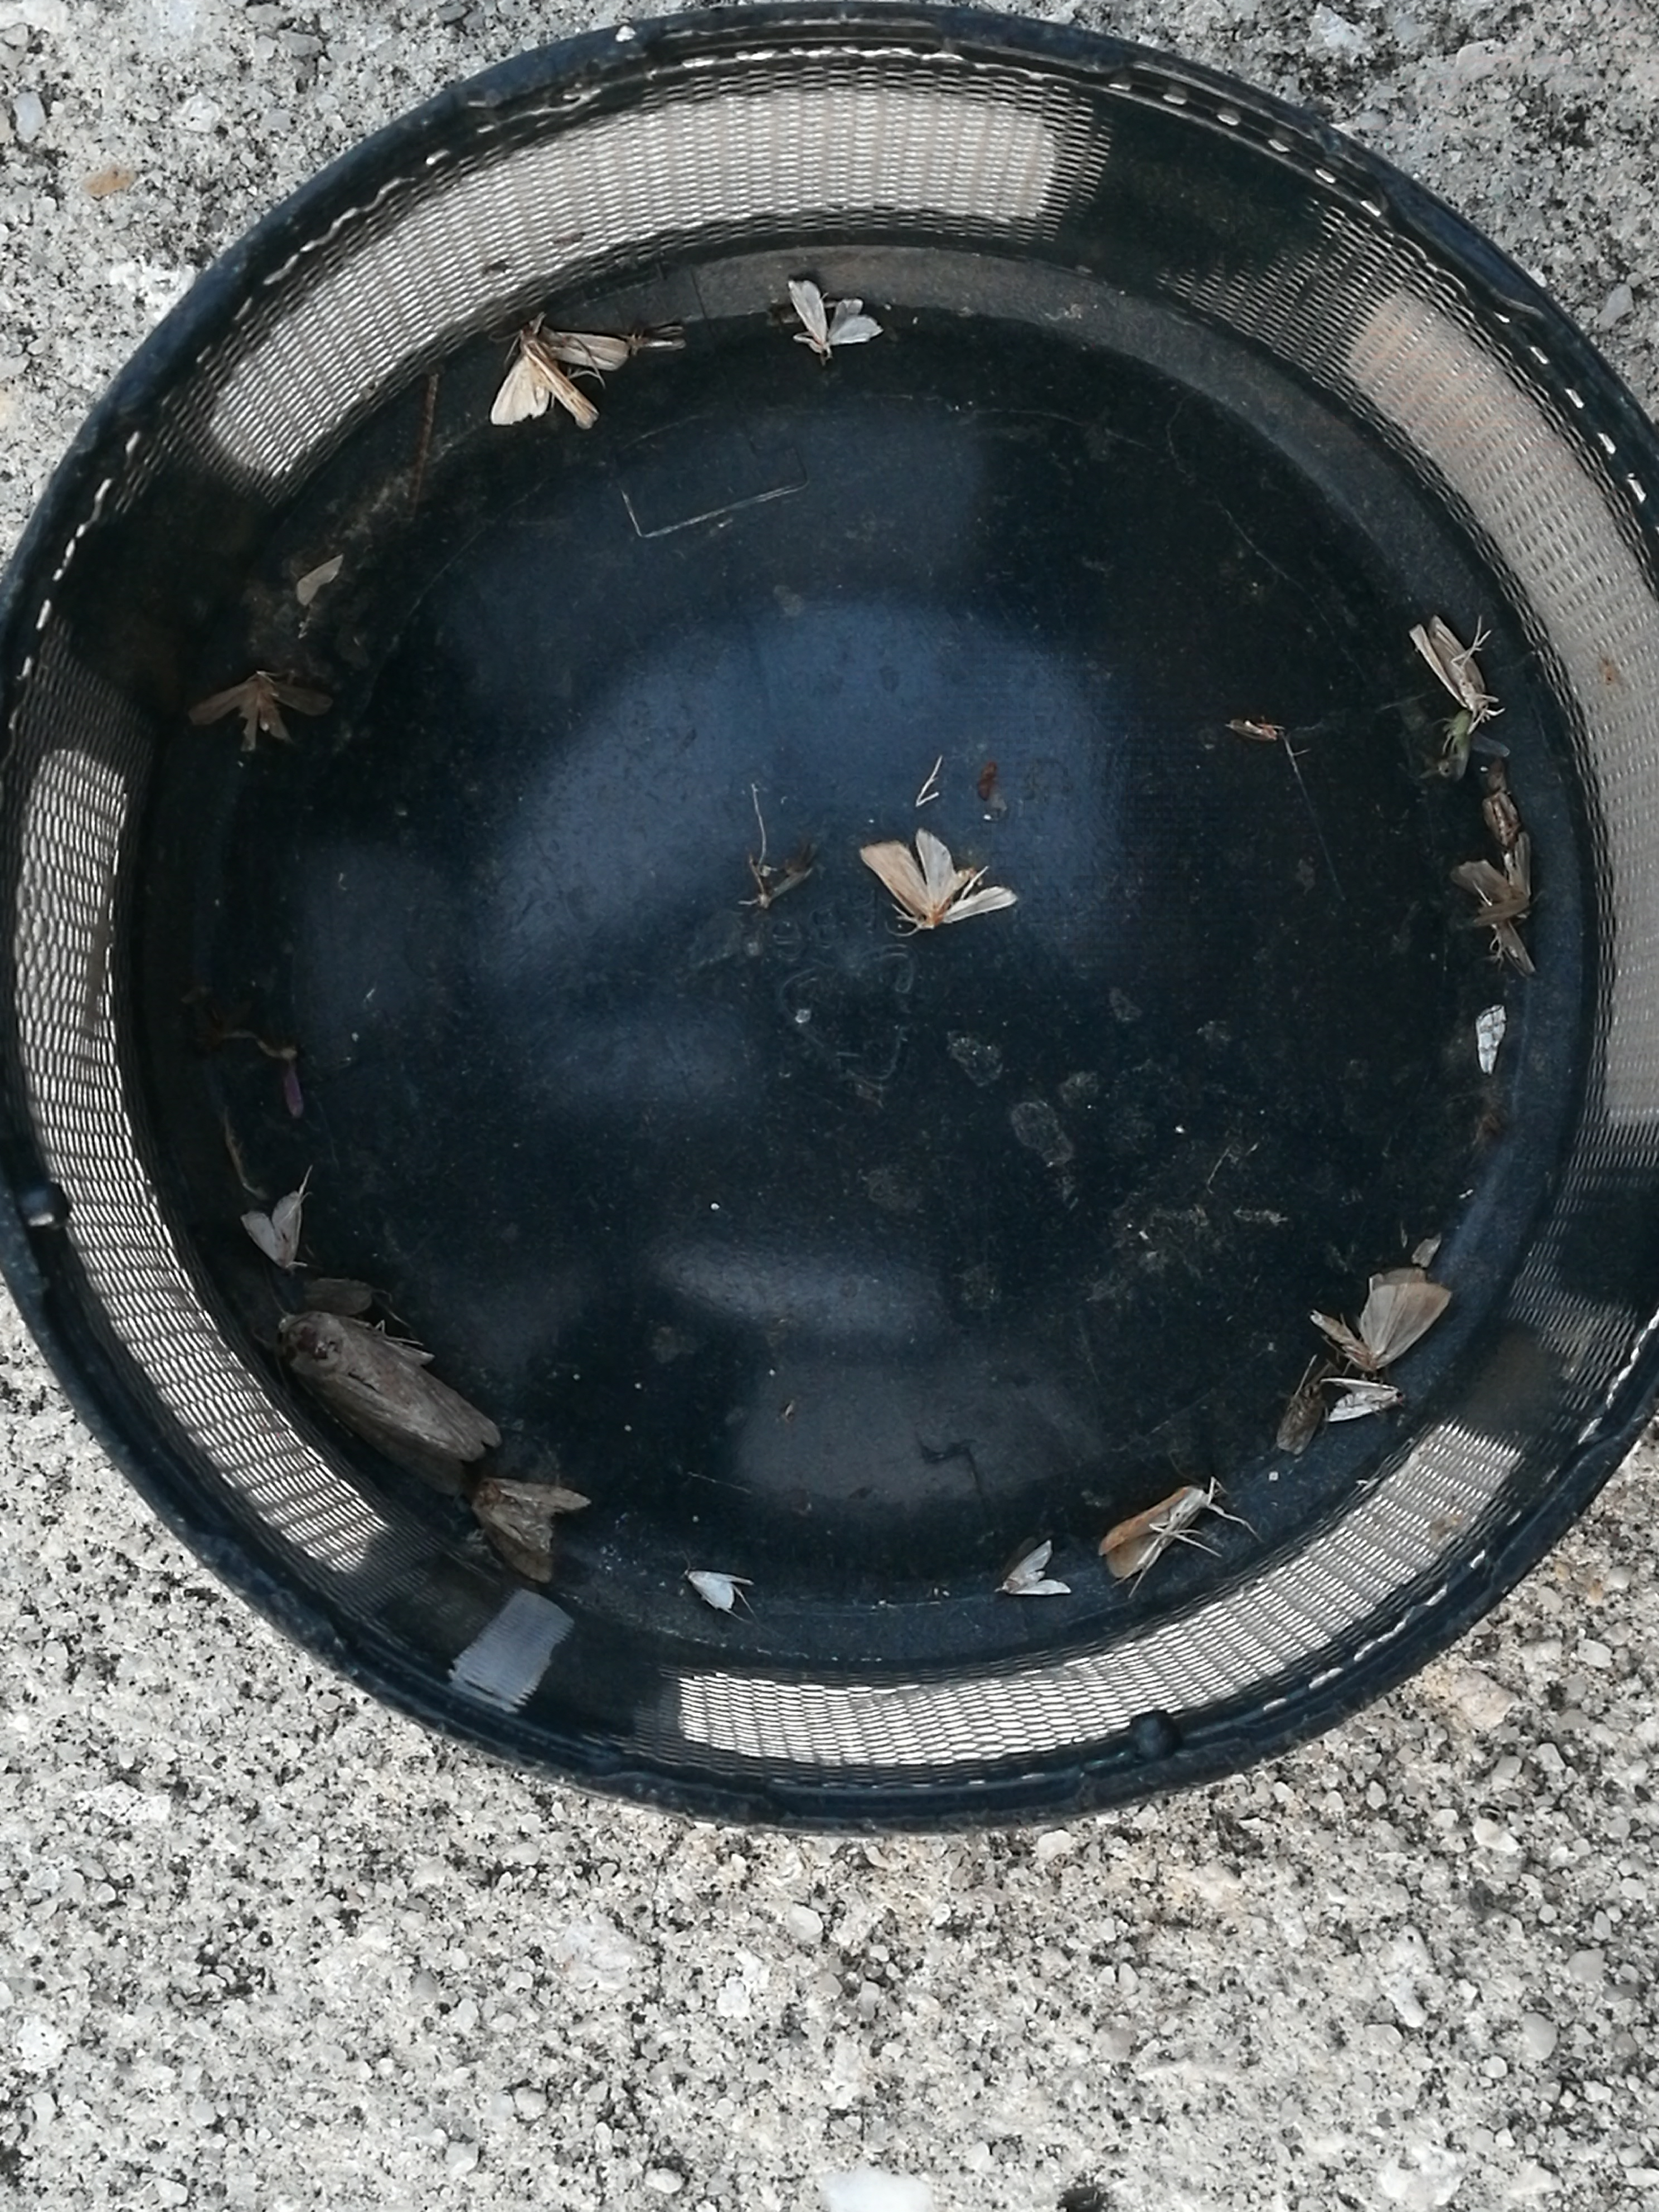mosquito: (1412, 618, 1488, 711), (1480, 900, 1534, 972), (1439, 709, 1478, 777)
moth: (281, 1313, 498, 1489), (863, 829, 1016, 927), (491, 326, 629, 428), (1314, 1271, 1452, 1367), (474, 1480, 589, 1583), (1096, 1489, 1209, 1580), (190, 674, 333, 745), (1457, 831, 1534, 921), (789, 279, 882, 345), (244, 1193, 303, 1266), (997, 1543, 1072, 1594), (1328, 1376, 1403, 1421), (683, 1569, 753, 1609)
